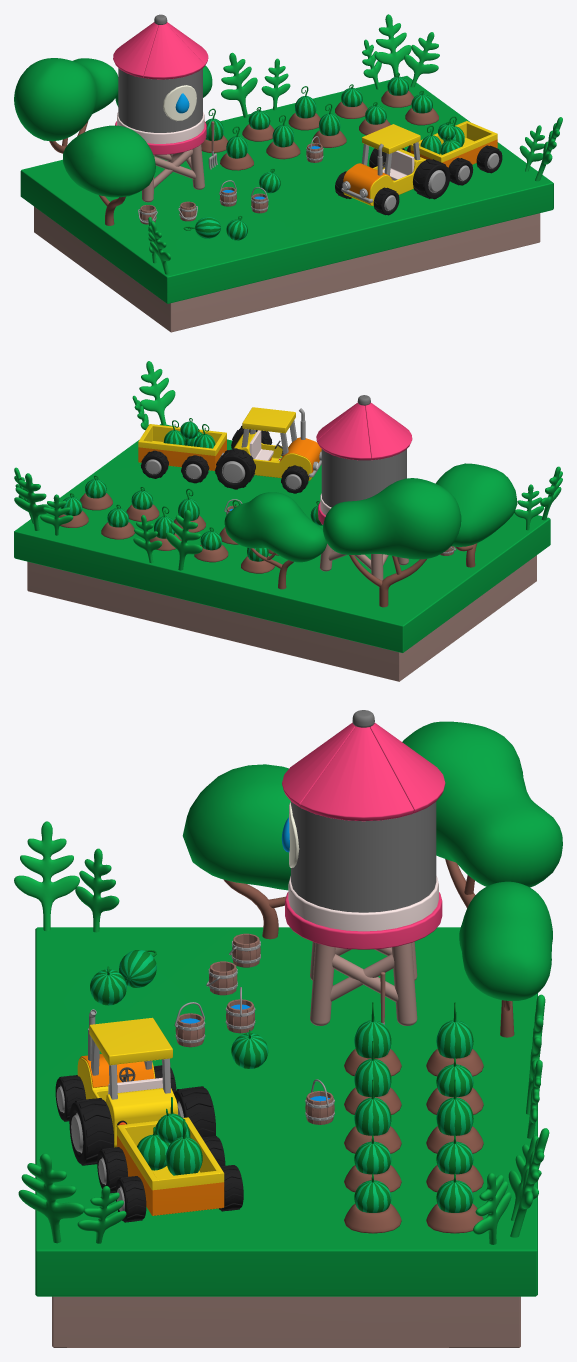
File: Farm_Island_16.glb
3 views of the same model, one above another, from view 1: azimuth 30°, elevation 25°; view 2: azimuth 150°, elevation 25°; view 3: azimuth 270°, elevation 25° (orthographic). The views are drawn at different scales.
Visible parts, largest first — view 1: Farm_16_Base_1, Farm_16_Water_Tower_1, Farm_16_Tree_3, Farm_16_Tractor_1, Farm_16_Tree_1, Farm_16_Trailer_1, Farm_16_Plant_6, Farm_16_Plant_1, Farm_16_Plant_5, Farm_16_Plant_10, Farm_16_Plant_8, Farm_16_Plant_9 (+15 smaller); view 2: Farm_16_Base_1, Farm_16_Tree_3, Farm_16_Water_Tower_1, Farm_16_Tractor_1, Farm_16_Tree_2, Farm_16_Tree_1, Farm_16_Trailer_1, Farm_16_Plant_9, Farm_16_Plant_6, Farm_16_Plant_1, Farm_16_Plant_4, Farm_16_Plant_10 (+4 smaller); view 3: Farm_16_Base_1, Farm_16_Water_Tower_1, Farm_16_Tree_3, Farm_16_Tractor_1, Farm_16_Tree_1, Farm_16_Tree_2, Farm_16_Trailer_1, Farm_16_Plant_7, Farm_16_Plant_9, Farm_16_Plant_11, Farm_16_Plant_5, Farm_16_Plant_8 (+30 smaller).
Boxes of the visible parts, x1=… form: Farm_16_Base_1: x1=20, y1=76, x2=553, y2=332; Farm_16_Water_Tower_1: x1=113, y1=14, x2=208, y2=202; Farm_16_Tree_3: x1=14, y1=58, x2=118, y2=153; Farm_16_Tractor_1: x1=335, y1=124, x2=450, y2=215; Farm_16_Tree_1: x1=63, y1=125, x2=155, y2=225; Farm_16_Trailer_1: x1=406, y1=121, x2=502, y2=185; Farm_16_Plant_6: x1=221, y1=52, x2=257, y2=117; Farm_16_Plant_1: x1=374, y1=14, x2=411, y2=76; Farm_16_Plant_5: x1=404, y1=32, x2=439, y2=87; Farm_16_Plant_10: x1=261, y1=58, x2=290, y2=110; Farm_16_Plant_8: x1=519, y1=125, x2=544, y2=171; Farm_16_Plant_9: x1=535, y1=117, x2=562, y2=181; Farm_16_Base_1: x1=14, y1=424, x2=550, y2=681; Farm_16_Tree_3: x1=323, y1=478, x2=461, y2=607; Farm_16_Water_Tower_1: x1=316, y1=395, x2=412, y2=580; Farm_16_Tractor_1: x1=215, y1=407, x2=321, y2=493; Farm_16_Tree_2: x1=225, y1=492, x2=327, y2=589; Farm_16_Tree_1: x1=435, y1=463, x2=517, y2=567; Farm_16_Trailer_1: x1=138, y1=424, x2=226, y2=483; Farm_16_Plant_9: x1=139, y1=361, x2=175, y2=425; Farm_16_Plant_6: x1=166, y1=510, x2=202, y2=570; Farm_16_Plant_1: x1=14, y1=473, x2=51, y2=530; Farm_16_Plant_4: x1=40, y1=494, x2=73, y2=535; Farm_16_Plant_10: x1=133, y1=515, x2=162, y2=563; Farm_16_Base_1: x1=35, y1=927, x2=537, y2=1347; Farm_16_Water_Tower_1: x1=281, y1=710, x2=445, y2=1025; Farm_16_Tree_3: x1=402, y1=721, x2=562, y2=908; Farm_16_Tractor_1: x1=55, y1=1009, x2=215, y2=1165; Farm_16_Tree_1: x1=182, y1=764, x2=290, y2=939; Farm_16_Tree_2: x1=459, y1=881, x2=552, y2=1037; Farm_16_Trailer_1: x1=97, y1=1117, x2=243, y2=1222; Farm_16_Plant_7: x1=14, y1=821, x2=79, y2=931; Farm_16_Plant_9: x1=18, y1=1153, x2=84, y2=1243; Farm_16_Plant_11: x1=75, y1=848, x2=119, y2=932; Farm_16_Plant_5: x1=473, y1=1173, x2=511, y2=1244; Farm_16_Plant_8: x1=77, y1=1186, x2=126, y2=1243.
Bounding box in the file's own units: 18.52 × 9.51 × 12.01.
Materials: 49 (49 with a texture image).
